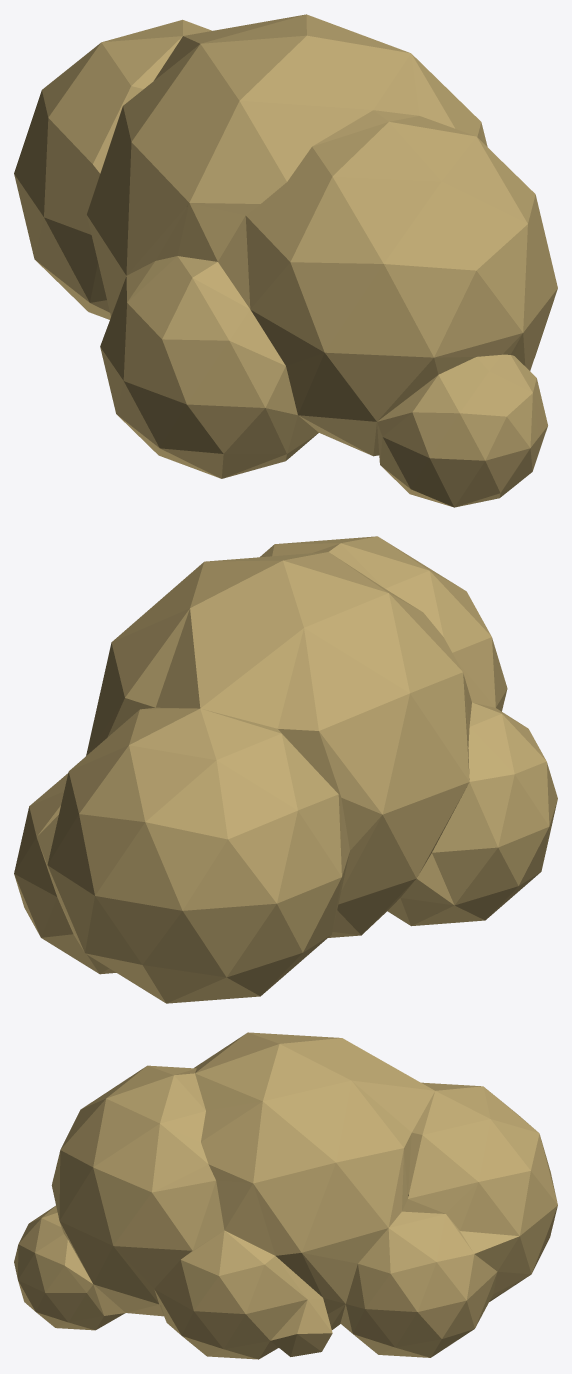
File: rocks_2.dae
3 renders of one model, top to bottom at view 1: azimuth 30°, elevation 25°; view 2: azimuth 150°, elevation 25°; view 3: azimuth 270°, elevation 25°, orthographic. The views are drawn at different scales.
Parts seen in each view (by area): view 1: node; view 2: node; view 3: node.
Part boxes in pixels (x1,y1,x2,y2): node: (14, 14, 557, 507); node: (14, 536, 557, 1003); node: (14, 1032, 557, 1359).
Size of the model in its own units: 3.63 by 5.31 by 3.05.
